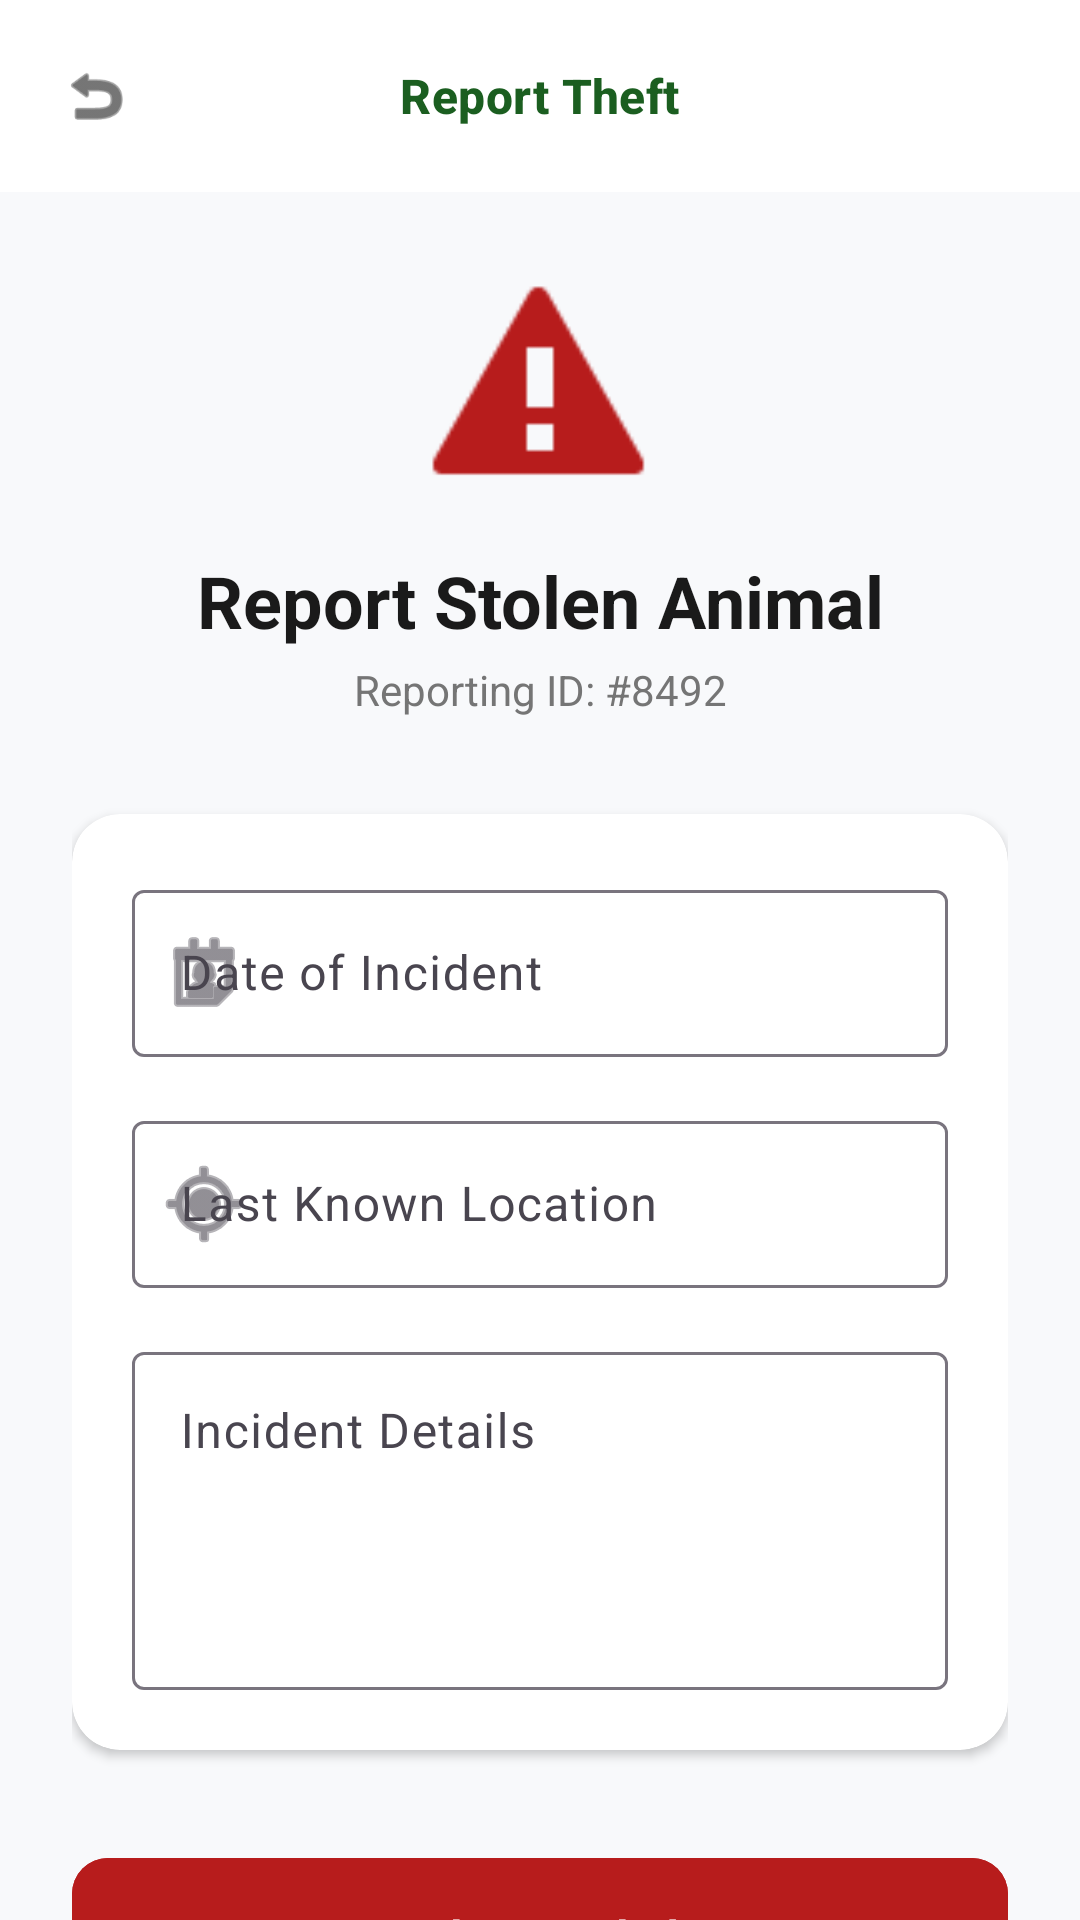

Locate icon controls on the screen. Image size 1080 × 1920, boxes as {"left": x1, "top": y1, "right": x2, "bottom": y2}.
revert: {"left": 71, "top": 73, "right": 123, "bottom": 120}
warning: {"left": 432, "top": 286, "right": 645, "bottom": 475}
